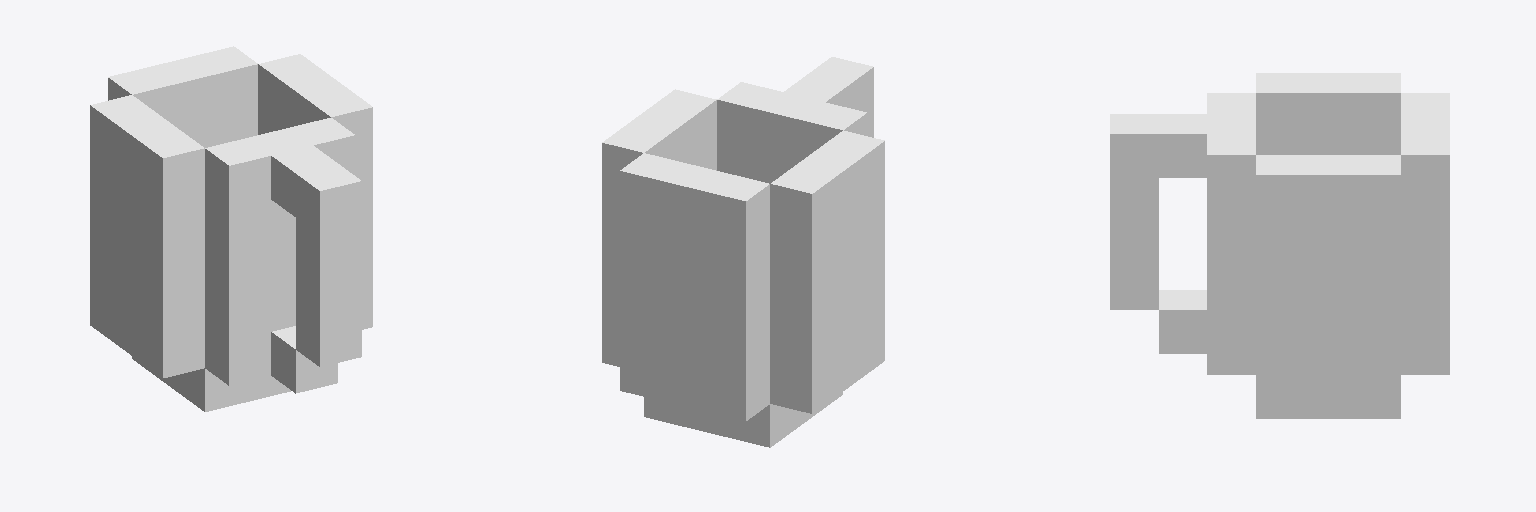
The model's file is Stakan.obj.
The picture shows the model from 3 angles: view 1: azimuth 30°, elevation 25°; view 2: azimuth 150°, elevation 25°; view 3: azimuth 270°, elevation 25°; orthographic projection.
Parts seen in each view (by area): view 1: object 1; view 2: object 1; view 3: object 1.
Boxes of the visible parts, x1=… form: object 1: x1=90, y1=46, x2=372, y2=411; object 1: x1=602, y1=57, x2=884, y2=447; object 1: x1=1110, y1=73, x2=1449, y2=418.
Bounding box in the file's own units: 0.5 × 0.6 × 0.7.